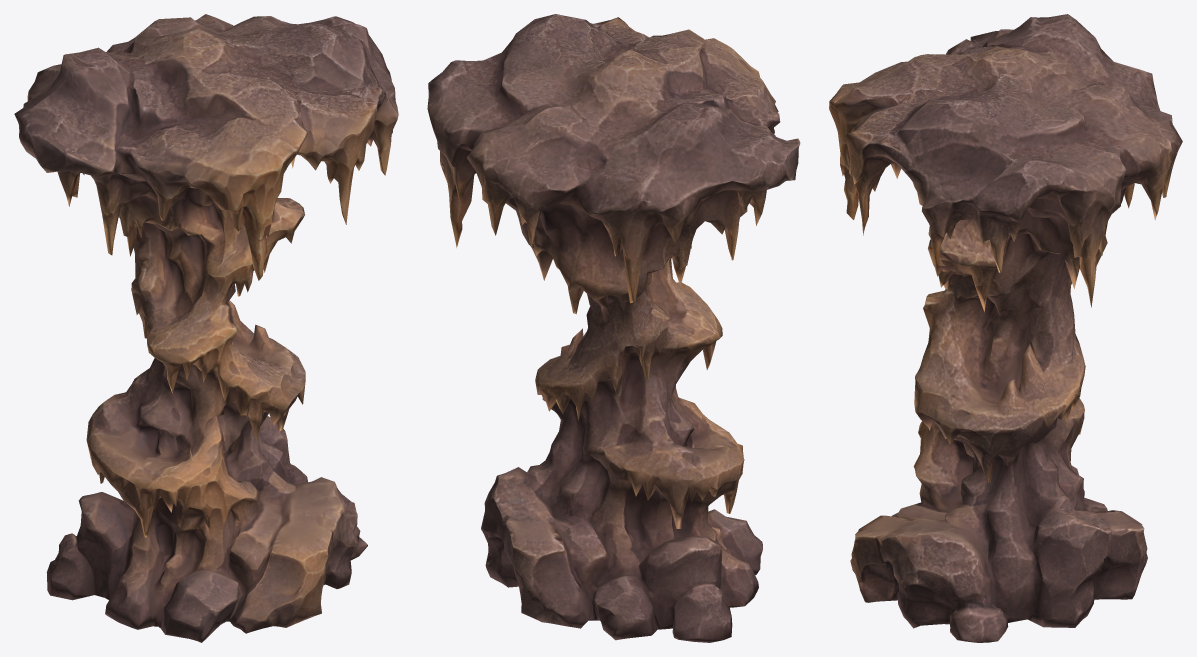
File: rock formation 3d model 1.glb
The picture shows the model from 3 angles, left to right: view 1: azimuth 30°, elevation 25°; view 2: azimuth 150°, elevation 25°; view 3: azimuth 270°, elevation 25°; orthographic projection. The views are drawn at different scales.
Visible parts, largest first — view 1: tripo_node_330417fe-f0e0-4ff8-a9cf-73a2b628a778; view 2: tripo_node_330417fe-f0e0-4ff8-a9cf-73a2b628a778; view 3: tripo_node_330417fe-f0e0-4ff8-a9cf-73a2b628a778.
Part boxes in pixels (box(x1,y1,x2,y2)): tripo_node_330417fe-f0e0-4ff8-a9cf-73a2b628a778: box(14, 14, 398, 642); tripo_node_330417fe-f0e0-4ff8-a9cf-73a2b628a778: box(427, 14, 800, 642); tripo_node_330417fe-f0e0-4ff8-a9cf-73a2b628a778: box(829, 14, 1182, 642).
Bounding box in the file's own units: 0.6807 × 1 × 0.5982.
1 material, 1 textured.
